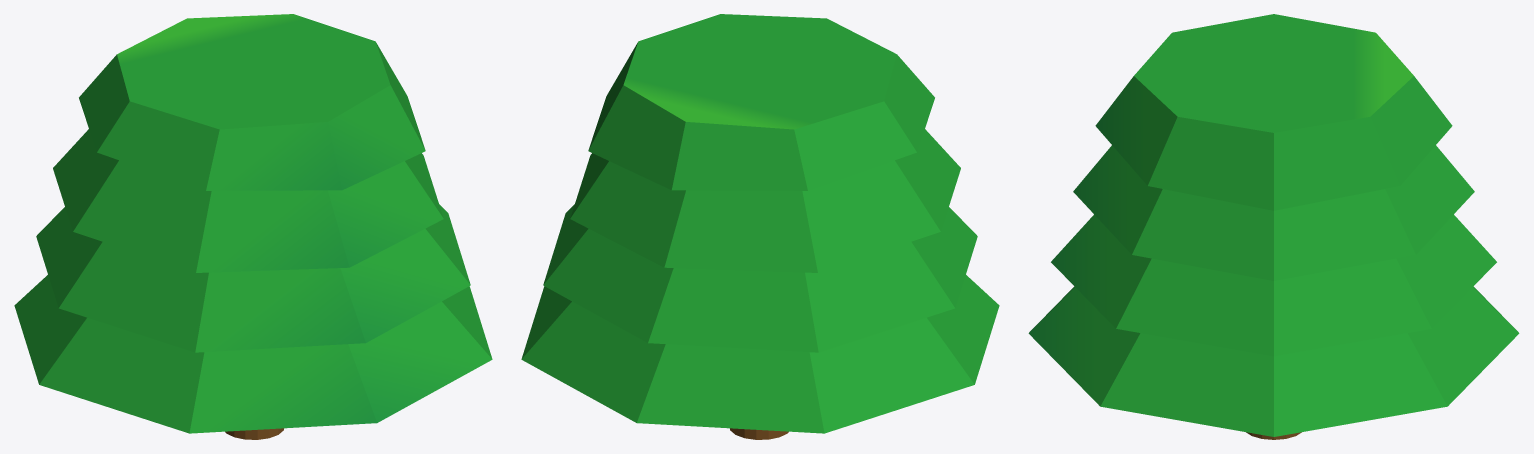
Rendered from Tree2.fbx.
The picture shows the model from 3 angles, left to right: view 1: azimuth 30°, elevation 25°; view 2: azimuth 150°, elevation 25°; view 3: azimuth 270°, elevation 25°; orthographic projection.
Visible parts, largest first — view 1: Tree2; view 2: Tree2; view 3: Tree2.
Part boxes in pixels (x1=…): Tree2: x1=14, y1=14, x2=492, y2=439; Tree2: x1=521, y1=14, x2=999, y2=439; Tree2: x1=1028, y1=14, x2=1519, y2=439.
Bounding box in the file's own units: 296 × 235 × 296.
